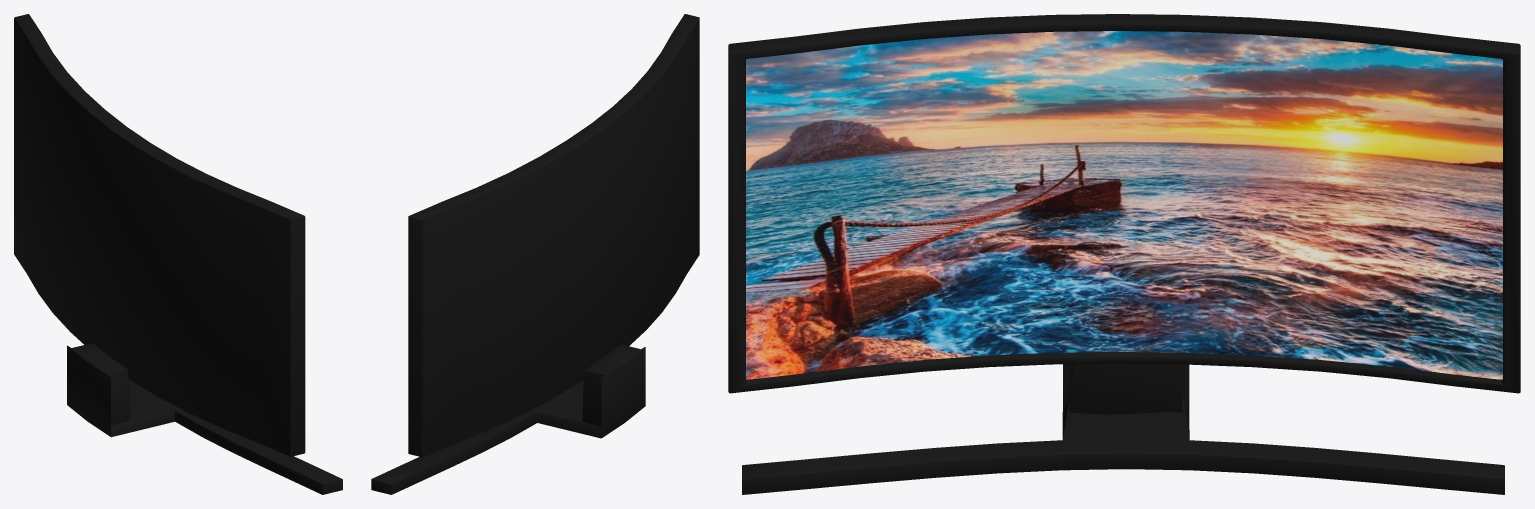
3 views of the same model, side by side, from view 1: azimuth 30°, elevation 25°; view 2: azimuth 150°, elevation 25°; view 3: azimuth 270°, elevation 25° (orthographic). The views are drawn at different scales.
Size of the model in its own units: 0.5067 by 1.15 by 2.
2 materials, 1 textured.
